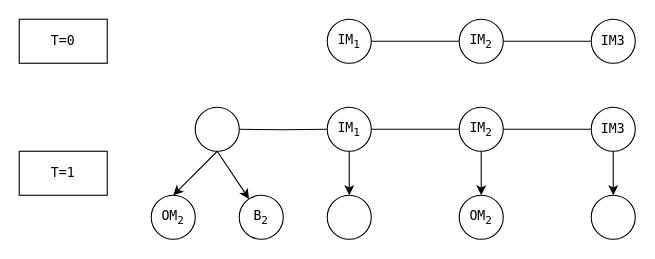
The diagram is 655 pixels wide and 259 high, and some of its shapes have lost their labels. Here are the shapes that lost their labels. From the top down, the box of each, then its label:
(194, 106, 239, 151): B 1
(326, 194, 371, 239): B 3
(590, 194, 635, 239): OM 3
